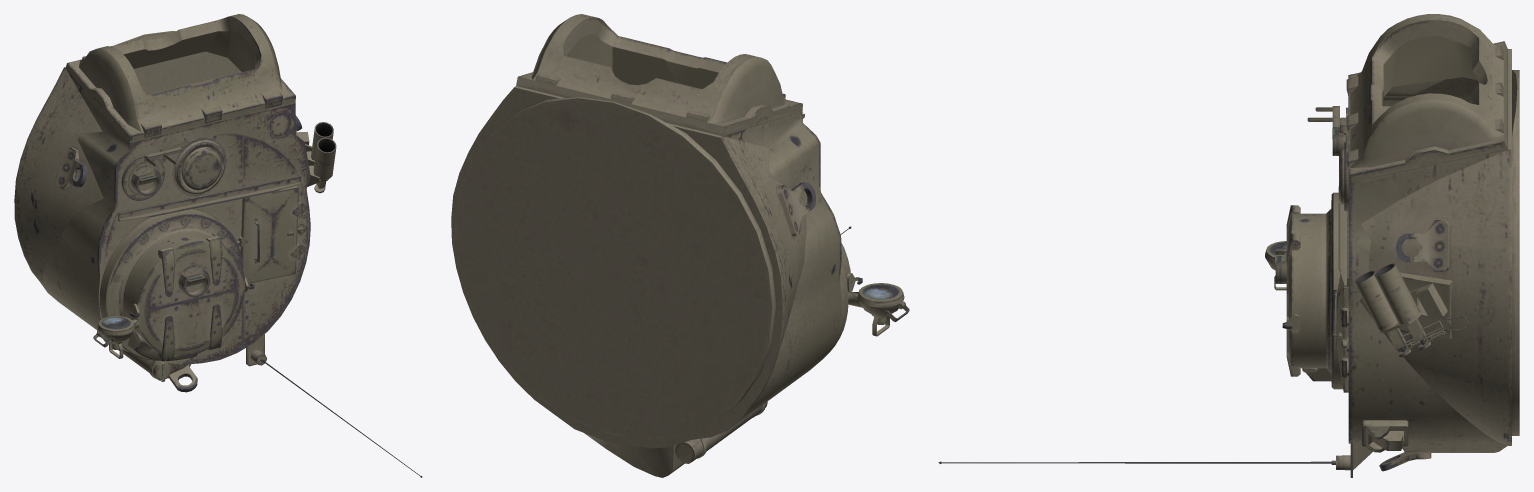
The model's file is Turret_01.glb.
3 renders of one model, left to right at view 1: azimuth 30°, elevation 25°; view 2: azimuth 150°, elevation 25°; view 3: azimuth 270°, elevation 25°, orthographic. The views are drawn at different scales.
Parts seen in each view (by area): view 1: set_0_group_0; view 2: set_0_group_0; view 3: set_0_group_0.
Part boxes in pixels (x1,y1,x2,y2): set_0_group_0: (14,14,422,477); set_0_group_0: (451,14,909,477); set_0_group_0: (938,14,1519,477).
Bounding box in the file's own units: 1.79 × 2.06 × 2.59.
1 material, 1 textured.
